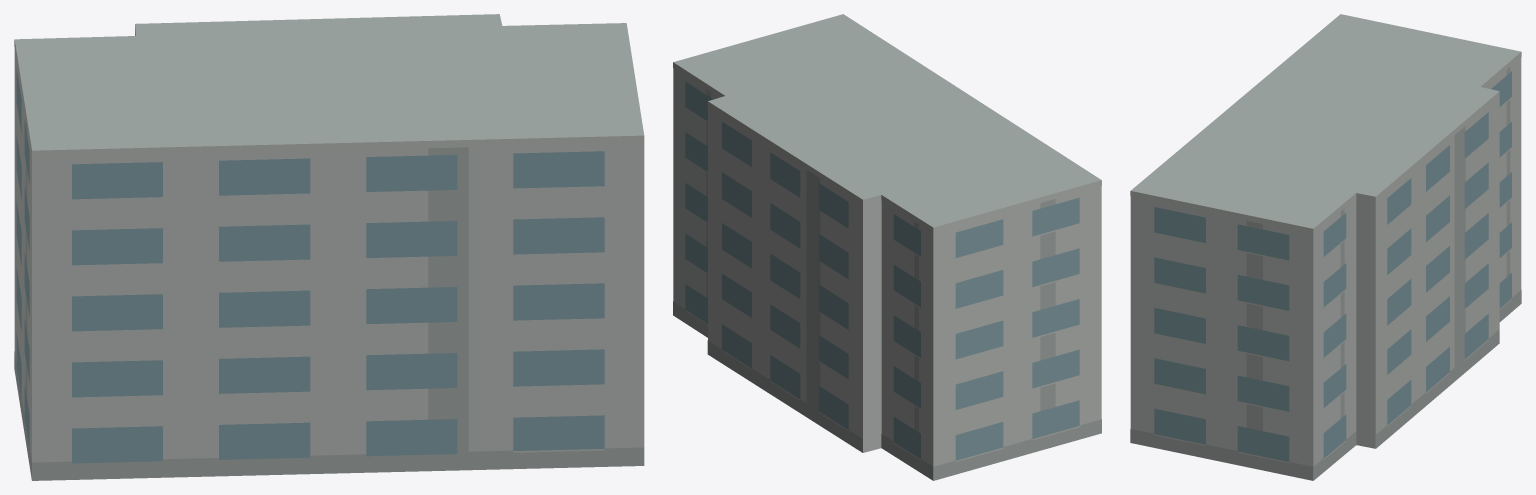
Rendered from survey-upis-32883549.glb.
3 views of the same model, side by side, from view 1: azimuth 30°, elevation 25°; view 2: azimuth 150°, elevation 25°; view 3: azimuth 270°, elevation 25° (orthographic). The views are drawn at different scales.
Visible parts, largest first — view 1: survey-upis-32883549.tmp; view 2: survey-upis-32883549.tmp; view 3: survey-upis-32883549.tmp.
Part boxes in pixels (x1,y1,x2,y2): survey-upis-32883549.tmp: (14,14,644,480); survey-upis-32883549.tmp: (673,14,1101,480); survey-upis-32883549.tmp: (1130,14,1521,480).
Bounding box in the file's own units: 19.75 × 10.8 × 15.19.
